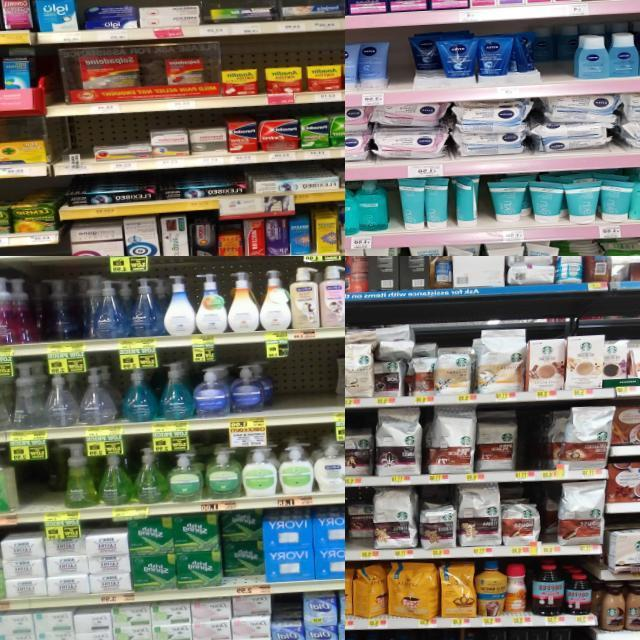Imprecise: (214, 510, 270, 584), (24, 275, 80, 341), (534, 24, 590, 83), (29, 438, 73, 510), (343, 488, 377, 558), (414, 34, 439, 85)
